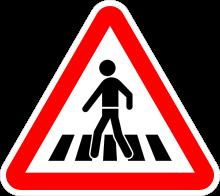Pedestrian Crossing: (11, 13, 204, 182)
